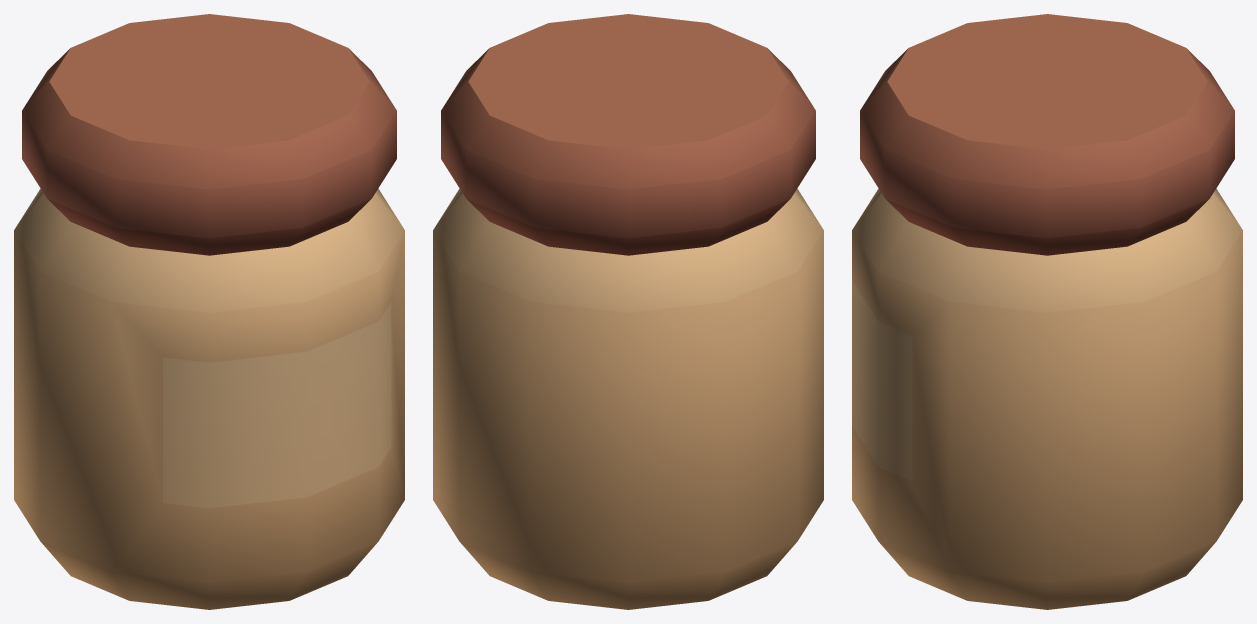
Rendered from jar_C_medium.glb.
3 renders of one model, left to right at view 1: azimuth 30°, elevation 25°; view 2: azimuth 150°, elevation 25°; view 3: azimuth 270°, elevation 25°, orthographic.
Parts seen in each view (by area): view 1: jar_C_medium; view 2: jar_C_medium; view 3: jar_C_medium.
Part boxes in pixels (x1=…): jar_C_medium: x1=14, y1=14, x2=404, y2=609; jar_C_medium: x1=433, y1=14, x2=823, y2=609; jar_C_medium: x1=852, y1=14, x2=1242, y2=609.
Bounding box in the file's own units: 0.5 × 0.65 × 0.5.
1 material, 1 textured.
